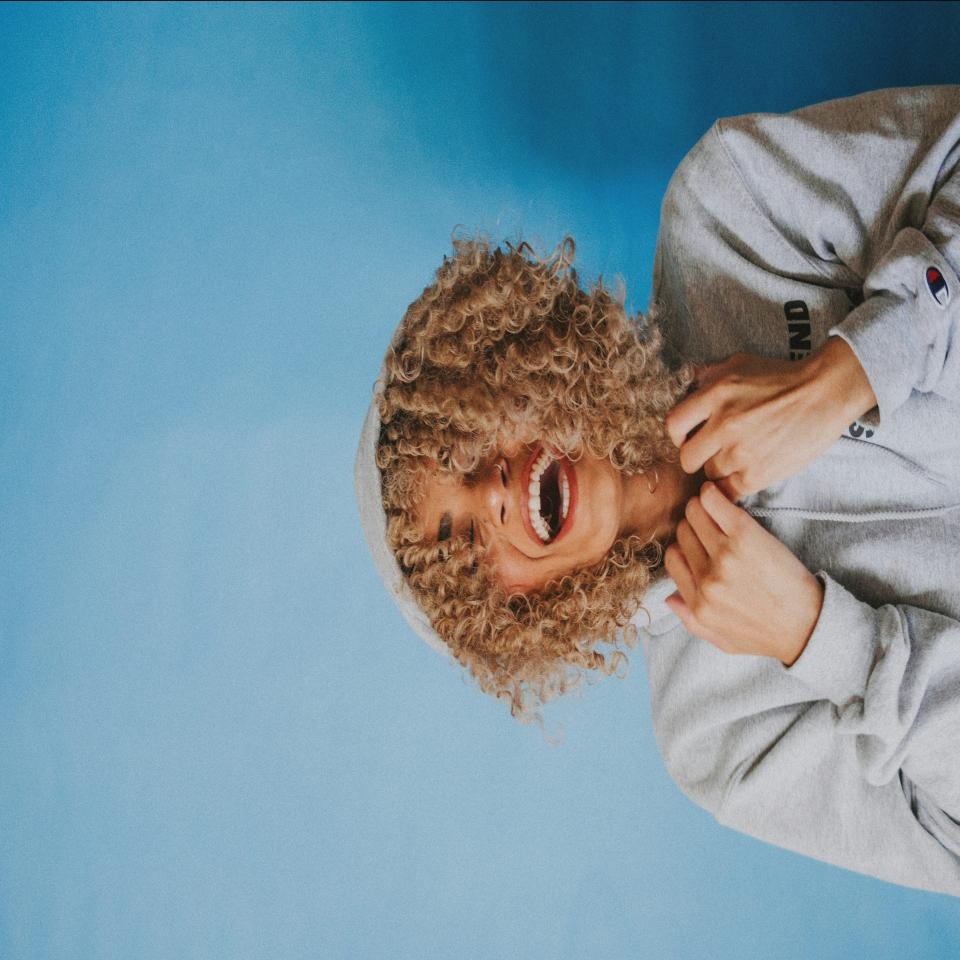Happiness: (417, 343, 629, 609)
